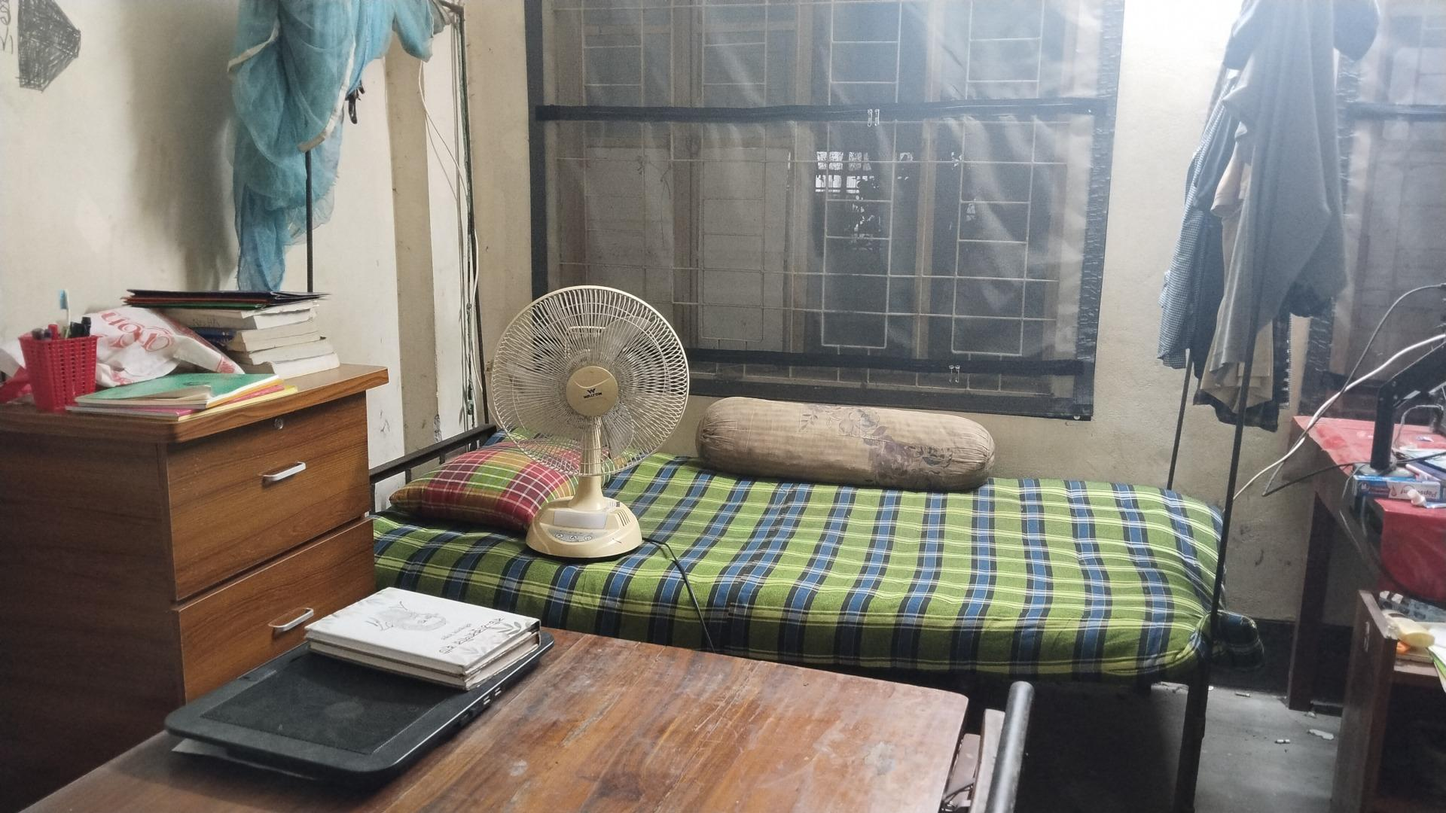Book: (304, 584, 542, 688)
Fan: (496, 291, 691, 558)
Pen Stand: (16, 324, 104, 413)
Pillow: (697, 397, 996, 489), (392, 445, 623, 526)
Window: (535, 0, 680, 357), (927, 1, 1063, 381), (803, 3, 922, 373), (688, 5, 796, 357)
